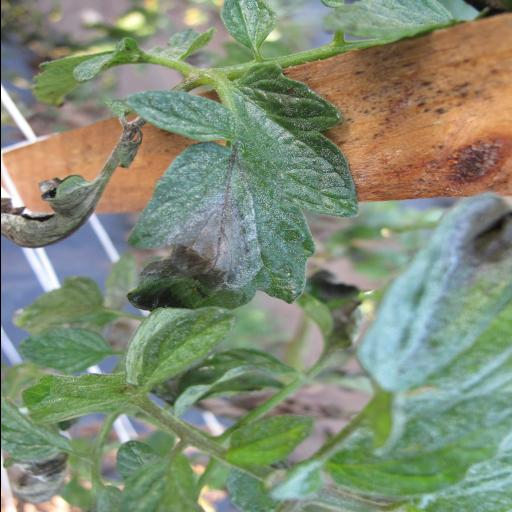disease_tomato: (95, 46, 363, 344)
